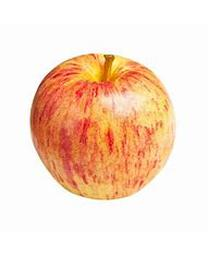apple: (29, 53, 175, 201)
